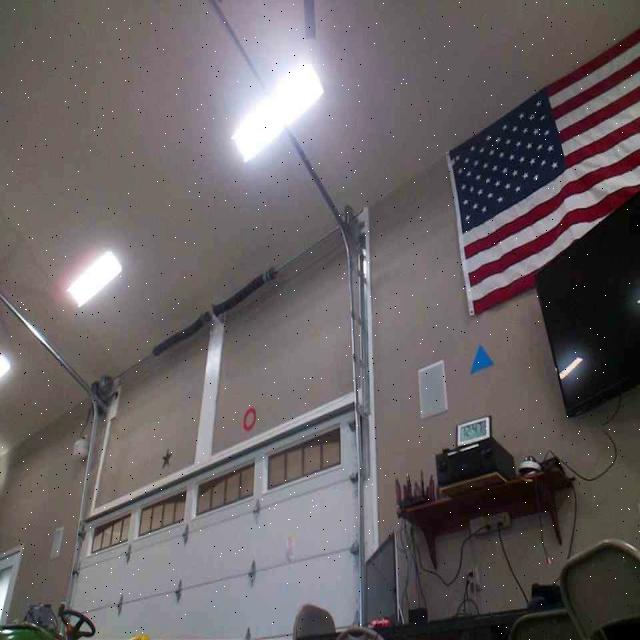ring_red: (242, 405, 256, 433)
star_black: (159, 446, 173, 468)
triangle_blue: (471, 342, 494, 373)
